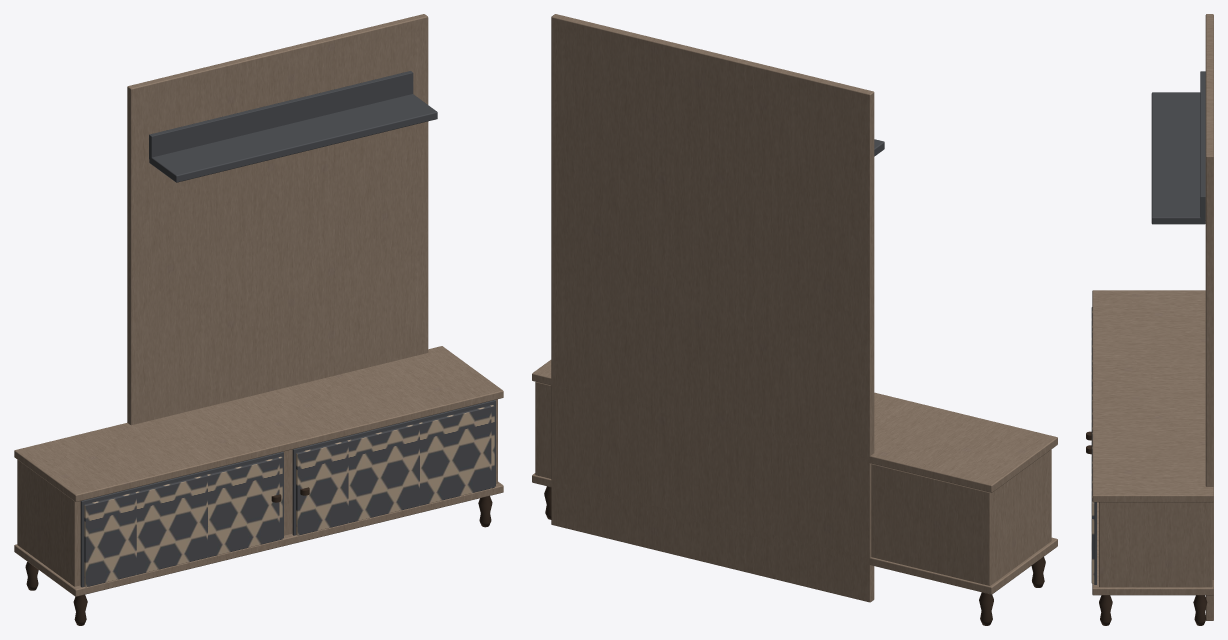
The model's file is hunkar-tv-stand.glb.
3 renders of one model, left to right at view 1: azimuth 30°, elevation 25°; view 2: azimuth 150°, elevation 25°; view 3: azimuth 270°, elevation 25°, orthographic. The views are drawn at different scales.
Parts seen in each view (by area): view 1: panel, top, door1, door0, shelf, body, shelfback, bottom, frame0, frame1; view 2: panel, body, top, bottom; view 3: top, body, shelf, panel, bottom, shelfback, door1, leg11, leg1-1, frame1, door0.
Part boxes in pixels (bbox=[...]): panel: bbox=[127, 14, 428, 425]; top: bbox=[14, 346, 503, 501]; door1: bbox=[296, 405, 494, 535]; door0: bbox=[84, 456, 282, 587]; shelf: bbox=[149, 94, 437, 182]; body: bbox=[17, 399, 497, 586]; shelfback: bbox=[149, 71, 413, 159]; bottom: bbox=[14, 481, 503, 596]; frame0: bbox=[80, 451, 283, 587]; frame1: bbox=[292, 400, 495, 535]; panel: bbox=[551, 14, 874, 602]; body: bbox=[535, 382, 1051, 585]; top: bbox=[532, 360, 1057, 492]; bottom: bbox=[532, 473, 1057, 594]; top: bbox=[1092, 290, 1213, 502]; body: bbox=[1099, 502, 1212, 587]; shelf: bbox=[1151, 92, 1205, 224]; panel: bbox=[1205, 14, 1213, 620]; bottom: bbox=[1092, 502, 1213, 595]; shelfback: bbox=[1200, 71, 1205, 220]; door1: bbox=[1091, 409, 1094, 583]; leg11: bbox=[1193, 595, 1207, 625]; leg1-1: bbox=[1099, 595, 1112, 625]; frame1: bbox=[1094, 502, 1096, 584]; door0: bbox=[1091, 307, 1092, 408].
Bounding box in the file's own units: 1.8 × 1.9 × 0.473.
Materials: 4 (2 with a texture image).
